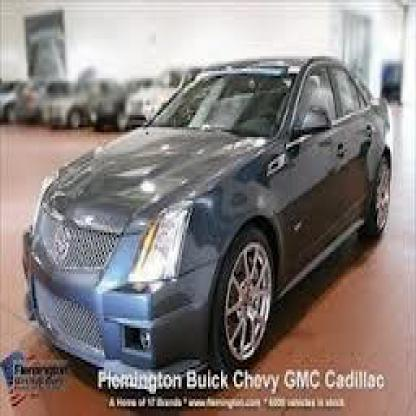Vehicle: (21, 56, 397, 392)
